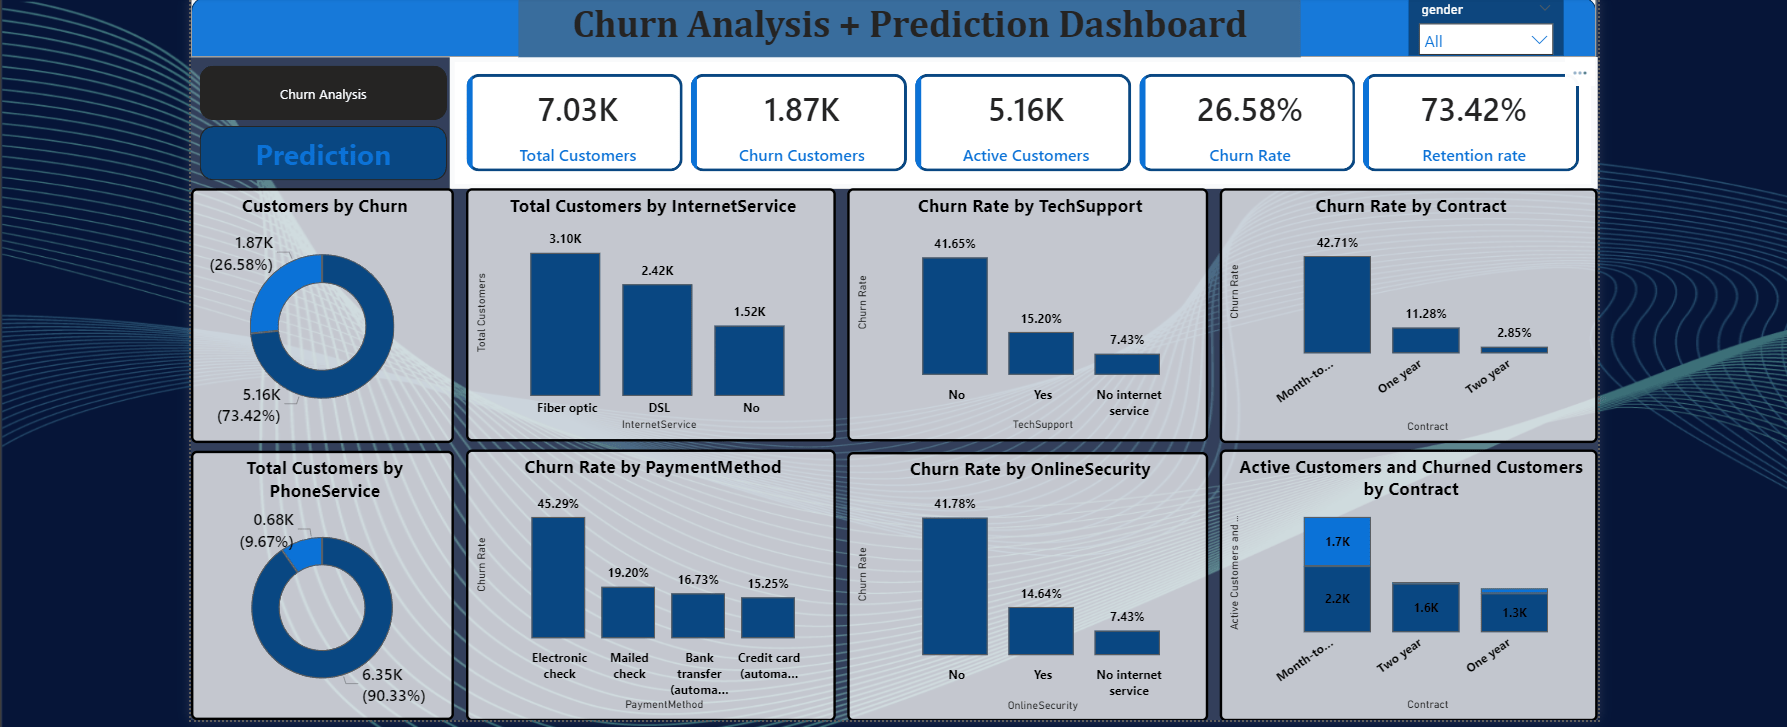

What the dashboard file says about the page in this screenshot:
{"tool":"powerbi","page":{"name":"Churn Analysis","canvas":[1400,720],"ordinal":0},"visuals":[{"type":"cardVisual","fields":{"Data":["WA_Fn-UseC_-Telco-Customer-Churn.Total Customers","WA_Fn-UseC_-Telco-Customer-Churn.Churned Customers","WA_Fn-UseC_-Telco-Customer-Churn.Active Customers","WA_Fn-UseC_-Telco-Customer-Churn.Churn Rate %","WA_Fn-UseC_-Telco-Customer-Churn.Retention rate %"]},"box":[257.6,59.7,1142.6,131],"z":0},{"type":"donutChart","title":"Customers by Churn","fields":{"Y":["WA_Fn-UseC_-Telco-Customer-Churn.Total Customers"],"Category":["WA_Fn-UseC_-Telco-Customer-Churn.Churn"]},"box":[0,190.5,261.7,253.4],"z":1000},{"type":"clusteredColumnChart","fields":{"Category":["WA_Fn-UseC_-Telco-Customer-Churn.Contract"],"Y":["WA_Fn-UseC_-Telco-Customer-Churn.Churn Rate"]},"box":[1023.7,190.5,376,253.4],"z":2000},{"type":"clusteredColumnChart","fields":{"Category":["WA_Fn-UseC_-Telco-Customer-Churn.InternetService"],"Y":["WA_Fn-UseC_-Telco-Customer-Churn.Total Customers"]},"box":[273.3,190.5,367.7,251.8],"z":3000},{"type":"columnChart","fields":{"Category":["WA_Fn-UseC_-Telco-Customer-Churn.Contract"],"Y":["WA_Fn-UseC_-Telco-Customer-Churn.Active Customers","WA_Fn-UseC_-Telco-Customer-Churn.Churned Customers"]},"box":[1023.7,450.6,376,270],"z":4000},{"type":"columnChart","fields":{"Category":["WA_Fn-UseC_-Telco-Customer-Churn.PaymentMethod"],"Y":["WA_Fn-UseC_-Telco-Customer-Churn.Churn Rate"]},"box":[273.3,450.6,367.7,270],"z":5000},{"type":"donutChart","fields":{"Category":["WA_Fn-UseC_-Telco-Customer-Churn.PhoneService"],"Y":["WA_Fn-UseC_-Telco-Customer-Churn.Total Customers"]},"box":[0,452.1,261.7,268.3],"z":6000},{"type":"clusteredColumnChart","fields":{"Y":["WA_Fn-UseC_-Telco-Customer-Churn.Churn Rate"],"Category":["WA_Fn-UseC_-Telco-Customer-Churn.TechSupport"]},"box":[652.7,190.5,359.5,251.8],"z":7000},{"type":"clusteredColumnChart","fields":{"Y":["WA_Fn-UseC_-Telco-Customer-Churn.Churn Rate"],"Category":["WA_Fn-UseC_-Telco-Customer-Churn.OnlineSecurity"]},"box":[652.7,452.2,359.5,268.3],"z":8000},{"type":"shape","box":[0,0,1398.8,59.7],"z":9000},{"type":"textbox","box":[326,0,778.7,59.7],"z":10000},{"type":"pageNavigator","box":[8.3,67.9,246.8,114.3],"z":11000},{"type":"slicer","fields":{"Values":["WA_Fn-UseC_-Telco-Customer-Churn.gender"]},"box":[1211,0,154.3,58.2],"z":12000}]}

Visuals, with their boxes in screenshot pixels (x1, y1, x2, y2):
cardVisual - WA_Fn-UseC_-Telco-Customer-Churn.Total Customers x WA_Fn-UseC_-Telco-Customer-Churn.Churned Customers: (x1=452, y1=55, x2=1588, y2=185)
"Customers by Churn" donutChart: (x1=195, y1=185, x2=456, y2=437)
clusteredColumnChart - WA_Fn-UseC_-Telco-Customer-Churn.Contract x WA_Fn-UseC_-Telco-Customer-Churn.Churn Rate: (x1=1213, y1=185, x2=1587, y2=437)
clusteredColumnChart - WA_Fn-UseC_-Telco-Customer-Churn.InternetService x WA_Fn-UseC_-Telco-Customer-Churn.Total Customers: (x1=467, y1=185, x2=833, y2=435)
columnChart - WA_Fn-UseC_-Telco-Customer-Churn.Contract x WA_Fn-UseC_-Telco-Customer-Churn.Active Customers: (x1=1213, y1=443, x2=1587, y2=712)
columnChart - WA_Fn-UseC_-Telco-Customer-Churn.PaymentMethod x WA_Fn-UseC_-Telco-Customer-Churn.Churn Rate: (x1=467, y1=443, x2=833, y2=712)
donutChart - WA_Fn-UseC_-Telco-Customer-Churn.PhoneService x WA_Fn-UseC_-Telco-Customer-Churn.Total Customers: (x1=195, y1=445, x2=456, y2=712)
clusteredColumnChart - WA_Fn-UseC_-Telco-Customer-Churn.Churn Rate x WA_Fn-UseC_-Telco-Customer-Churn.TechSupport: (x1=844, y1=185, x2=1202, y2=435)
clusteredColumnChart - WA_Fn-UseC_-Telco-Customer-Churn.Churn Rate x WA_Fn-UseC_-Telco-Customer-Churn.OnlineSecurity: (x1=844, y1=445, x2=1202, y2=712)
shape: (x1=195, y1=0, x2=1586, y2=55)
textbox: (x1=520, y1=0, x2=1294, y2=55)
pageNavigator: (x1=204, y1=63, x2=449, y2=177)
slicer - WA_Fn-UseC_-Telco-Customer-Churn.gender: (x1=1400, y1=0, x2=1553, y2=53)
